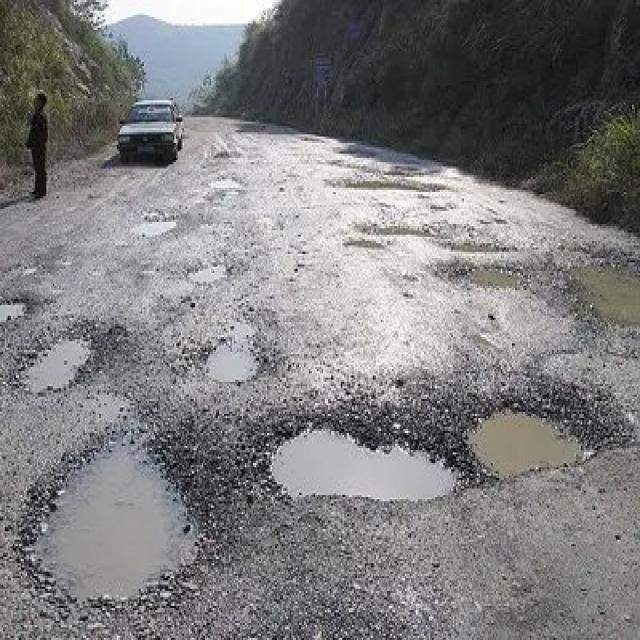pothole: (19, 421, 208, 604), (271, 423, 471, 517), (458, 397, 613, 487), (556, 260, 639, 337), (15, 326, 88, 397), (187, 322, 264, 386), (360, 220, 450, 244), (461, 263, 524, 297), (341, 180, 447, 199), (170, 258, 234, 286), (138, 216, 183, 237), (205, 177, 247, 199)
